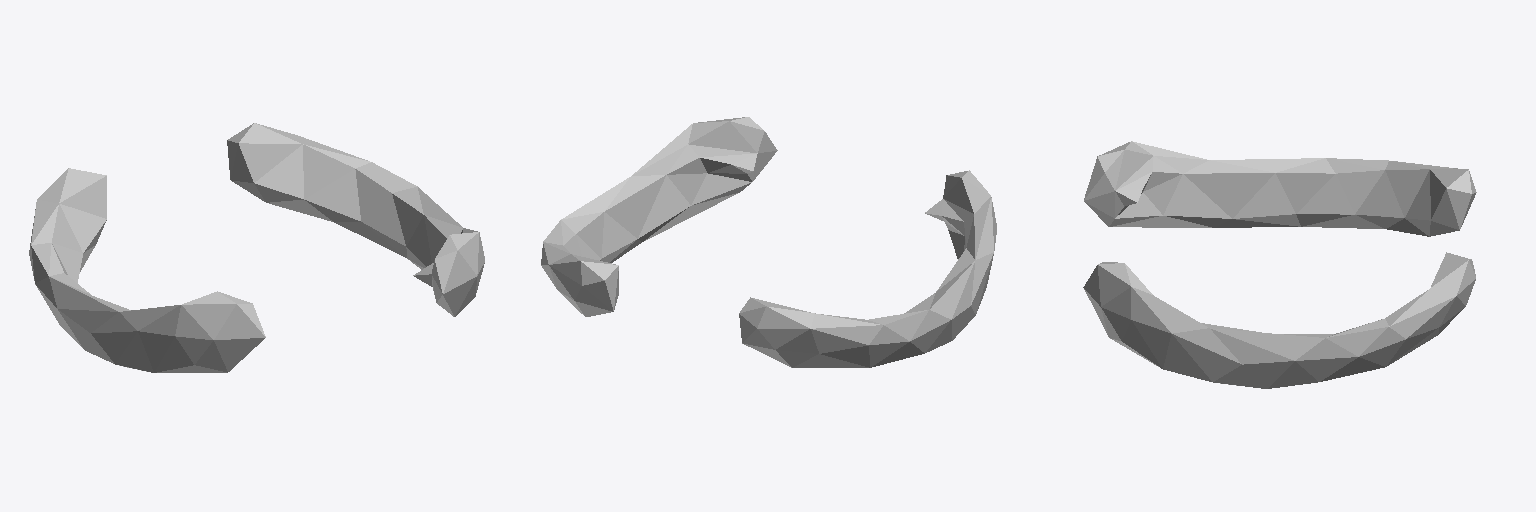
Rendered from Straps.OBJ.
3 renders of one model, left to right at view 1: azimuth 30°, elevation 25°; view 2: azimuth 150°, elevation 25°; view 3: azimuth 270°, elevation 25°, orthographic.
Visible parts, largest first — view 1: Group12165; view 2: Group12165; view 3: Group12165.
Part boxes in pixels (x1,y1,x2,y2): Group12165: (29, 123, 484, 372); Group12165: (541, 117, 996, 367); Group12165: (1083, 141, 1476, 388).
Size of the model in its own units: 41.99 by 10.46 by 37.42.